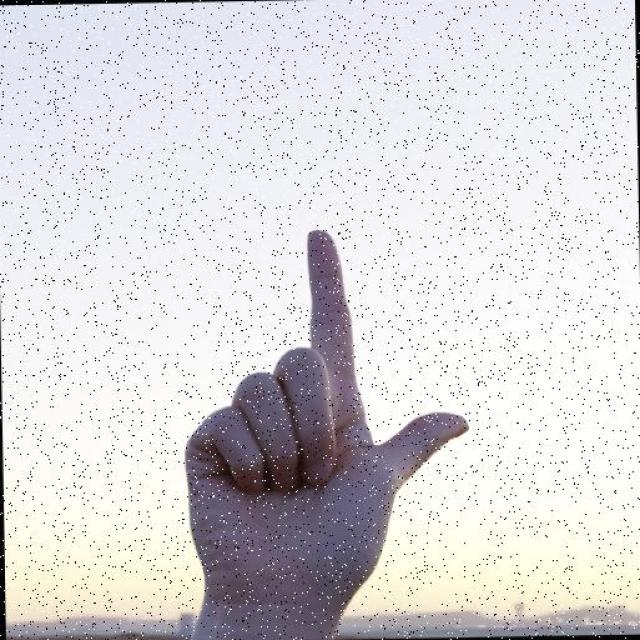L: (175, 221, 474, 613)
